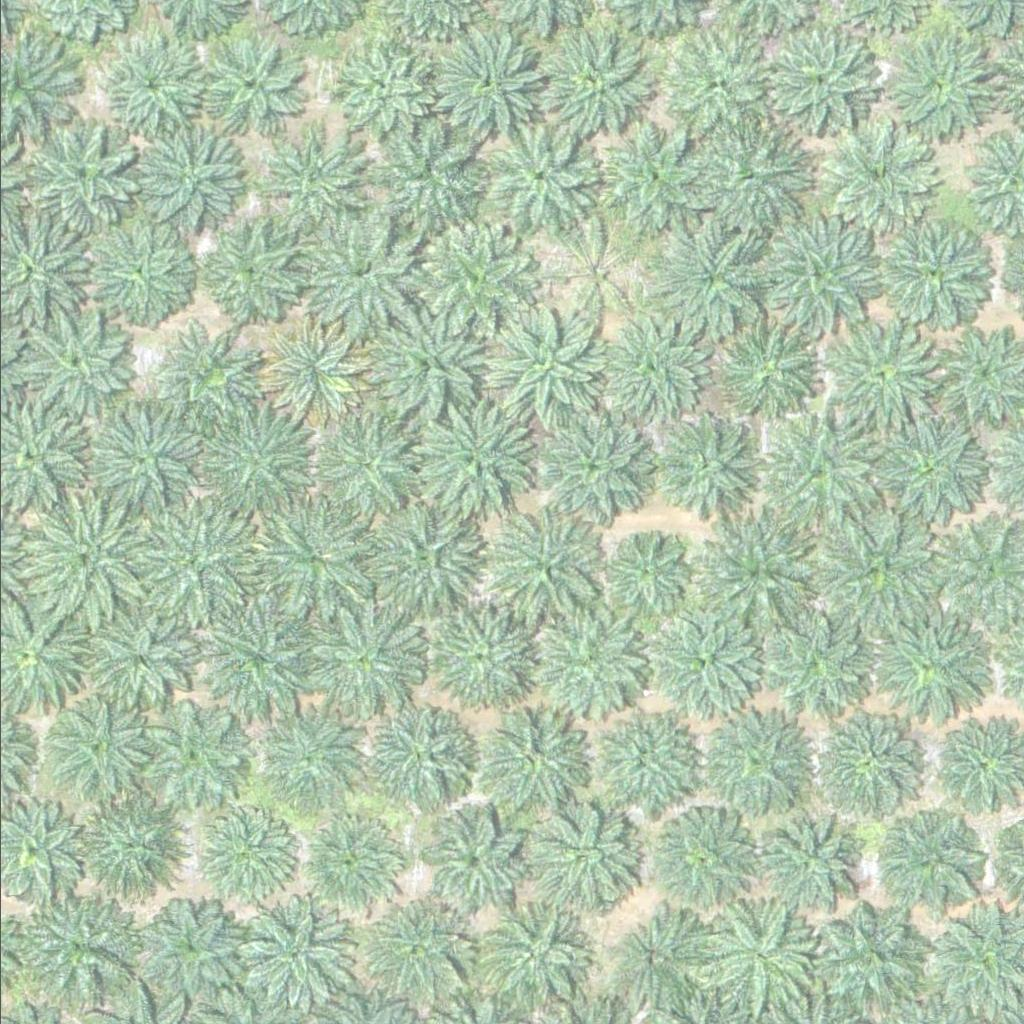Kelapa_Sawit: (870, 28, 996, 153), (745, 597, 871, 722), (688, 511, 814, 636), (247, 495, 373, 620), (128, 501, 254, 626), (762, 13, 888, 138), (26, 495, 151, 620), (874, 604, 988, 717), (422, 606, 536, 719), (488, 512, 602, 625), (307, 598, 421, 711), (825, 316, 939, 429), (535, 411, 649, 524), (880, 218, 993, 331), (469, 900, 582, 1013), (640, 803, 753, 916), (518, 798, 631, 911), (810, 705, 923, 818), (697, 706, 810, 819), (238, 895, 351, 1008), (42, 689, 155, 802), (83, 603, 196, 716), (202, 605, 315, 718), (364, 498, 477, 611), (419, 399, 532, 512), (664, 29, 777, 142), (371, 116, 484, 229), (479, 124, 592, 237), (596, 120, 709, 233), (694, 114, 807, 227), (418, 220, 531, 333), (766, 414, 879, 527), (253, 314, 366, 427), (20, 311, 133, 424), (300, 216, 413, 329), (195, 212, 308, 325), (27, 884, 141, 996), (76, 789, 190, 901), (140, 695, 254, 807), (824, 120, 938, 232), (764, 220, 878, 332), (587, 315, 701, 427), (875, 416, 988, 528), (810, 903, 923, 1015), (579, 704, 692, 816), (471, 701, 584, 813), (643, 605, 756, 717), (532, 604, 645, 716), (821, 513, 934, 625), (309, 411, 422, 523), (200, 401, 313, 513), (89, 401, 202, 513), (540, 32, 653, 144), (433, 28, 546, 140), (653, 222, 766, 334), (369, 307, 482, 419), (491, 308, 604, 420), (255, 124, 368, 236), (23, 120, 136, 232), (543, 223, 644, 323), (705, 906, 806, 1006), (611, 912, 712, 1012), (364, 900, 465, 1000), (875, 806, 976, 906), (758, 817, 859, 917), (424, 808, 525, 908), (325, 40, 426, 140), (87, 222, 188, 322), (142, 129, 243, 229), (193, 37, 294, 137), (371, 703, 471, 803), (143, 903, 243, 1003), (299, 808, 399, 908), (192, 804, 292, 904), (260, 709, 360, 809), (717, 318, 817, 418), (659, 417, 759, 517), (101, 38, 201, 138), (162, 332, 251, 419), (607, 531, 683, 606)
